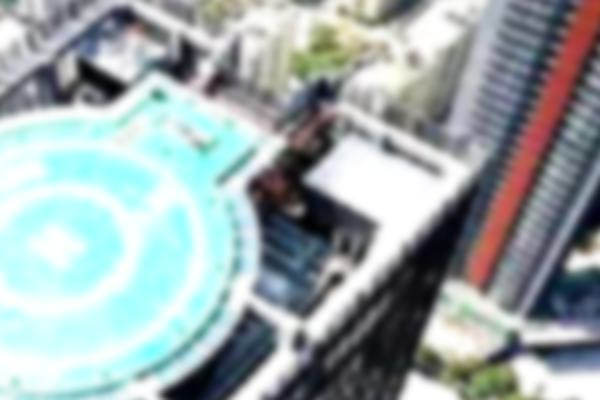Apron: (2, 173, 163, 325)
